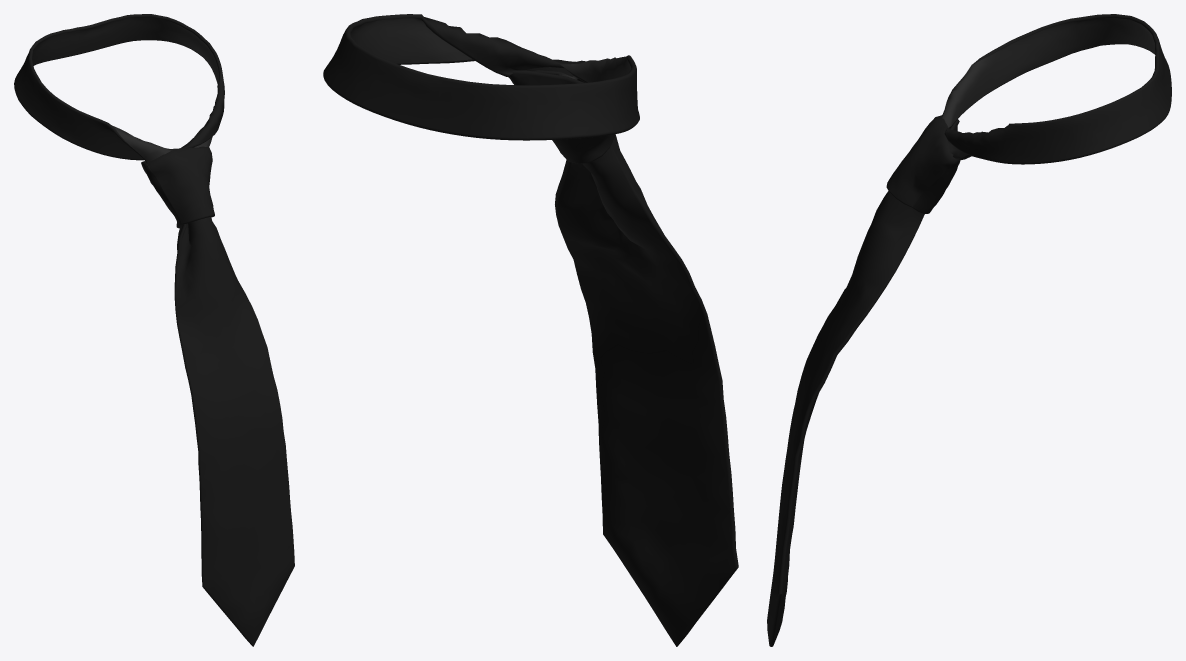
Rendered from CRAVATE.obj.
3 renders of one model, left to right at view 1: azimuth 30°, elevation 25°; view 2: azimuth 150°, elevation 25°; view 3: azimuth 270°, elevation 25°, orthographic. The views are drawn at different scales.
Parts seen in each view (by area): view 1: CRAVATE; view 2: CRAVATE; view 3: CRAVATE.
Boxes of the visible parts, x1,y1,x2,y2 form: CRAVATE: (14,14,294,646); CRAVATE: (323,14,738,646); CRAVATE: (767,14,1171,646).
Size of the model in its own units: 147 by 378 by 234.
